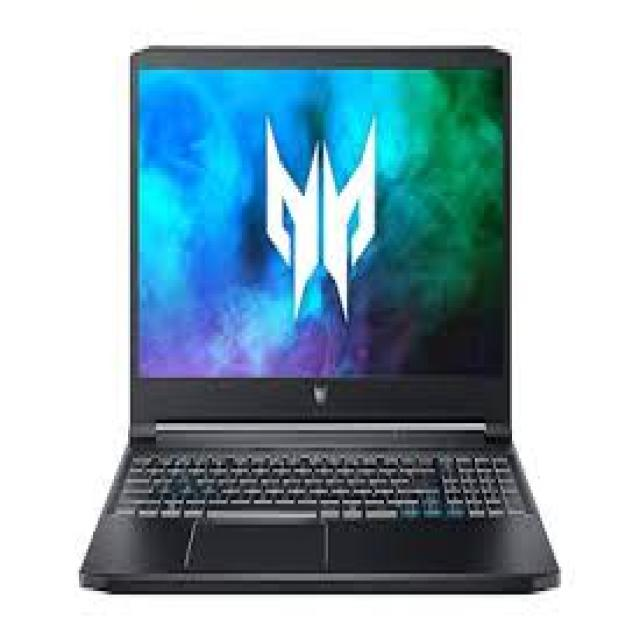others: (60, 28, 568, 609)
